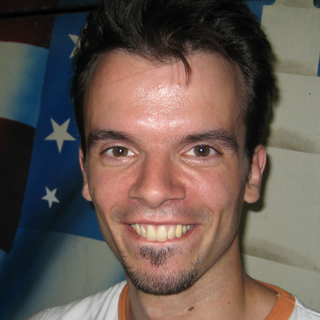eye: (174, 142, 226, 163), (96, 142, 140, 165)
